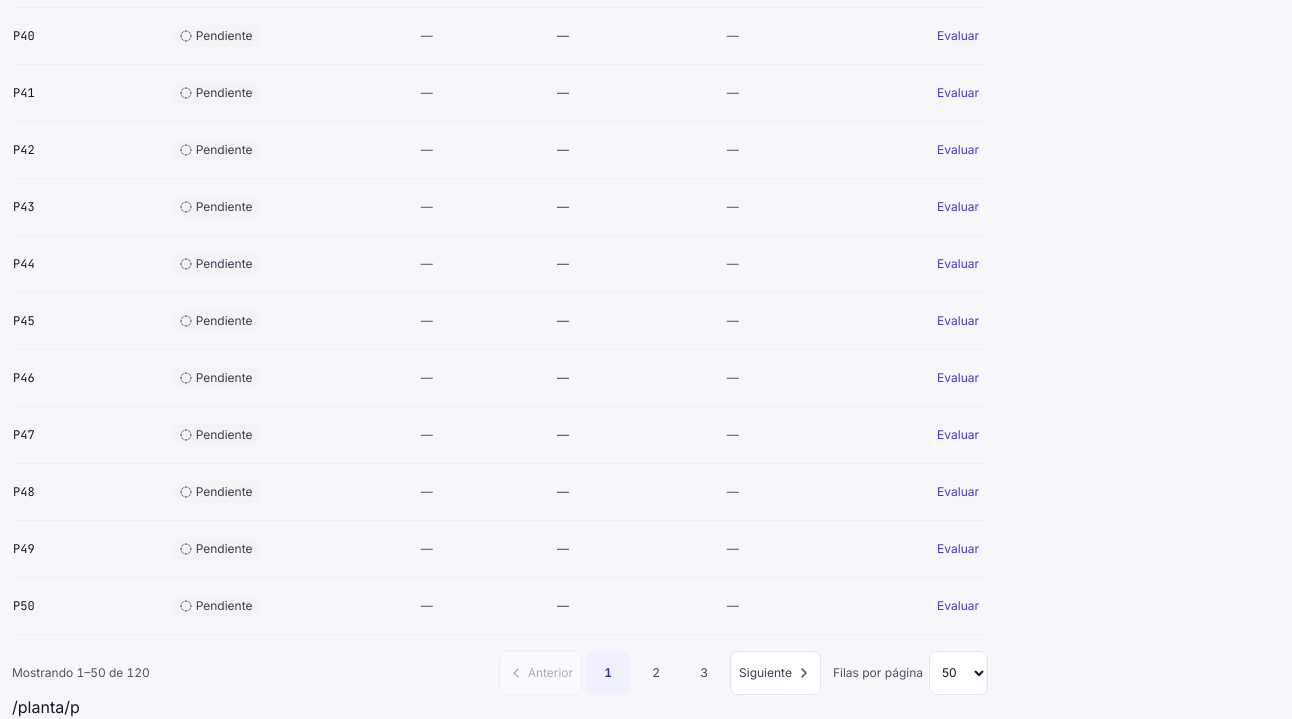
Test: con muchos individuos pagina de a 50 y los conteos siguen siendo del cruce completo
(page scrolled)
Expected: the text "Mostrando 1–50 de 120" is shown, top-left (12, 664), bottom-right (150, 682)
Click the button named "Página 2": [656, 672] box top-left (634, 650), bottom-right (678, 694)
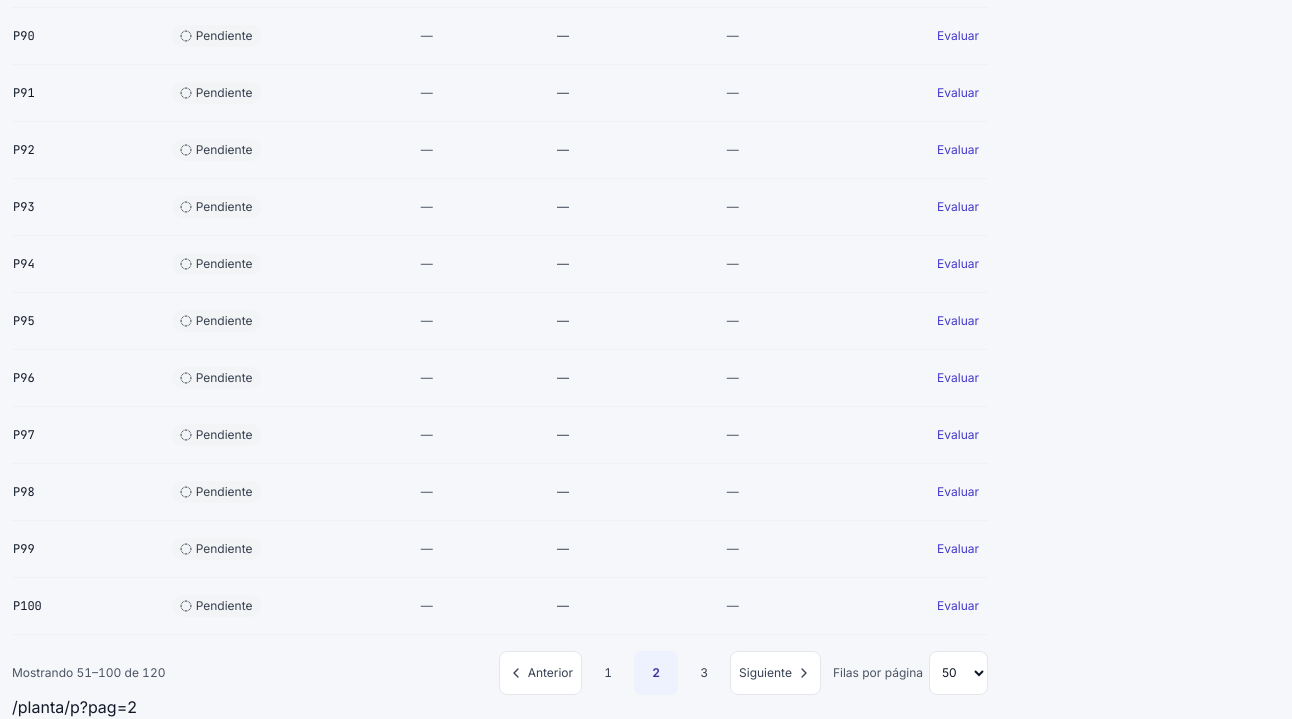
Now the text "Mostrando 51–100 de 120" is shown, box top-left (12, 664), bottom-right (166, 682)
